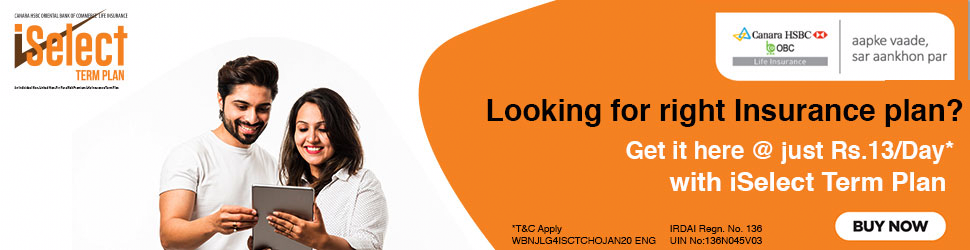fake_button: (825, 205, 951, 250)
